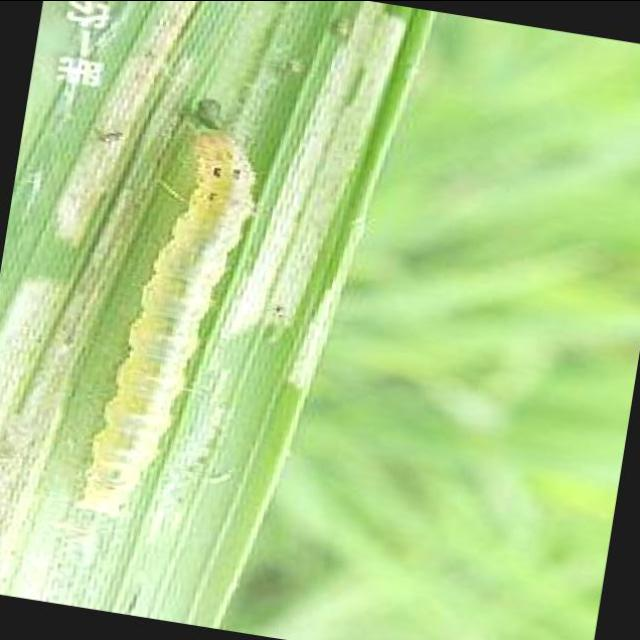leaf folder: (77, 129, 255, 514)
